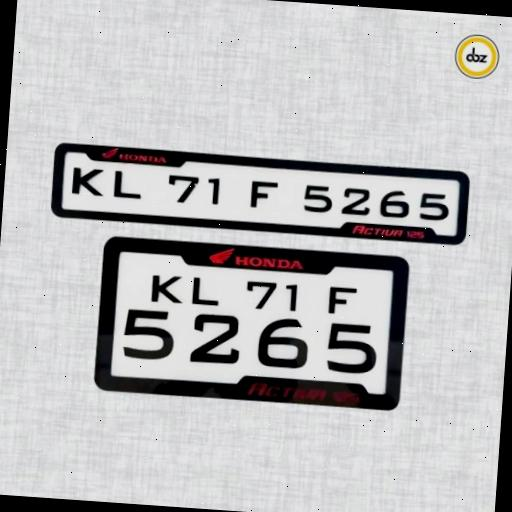number plate: (105, 248, 402, 405), (58, 148, 466, 243)
